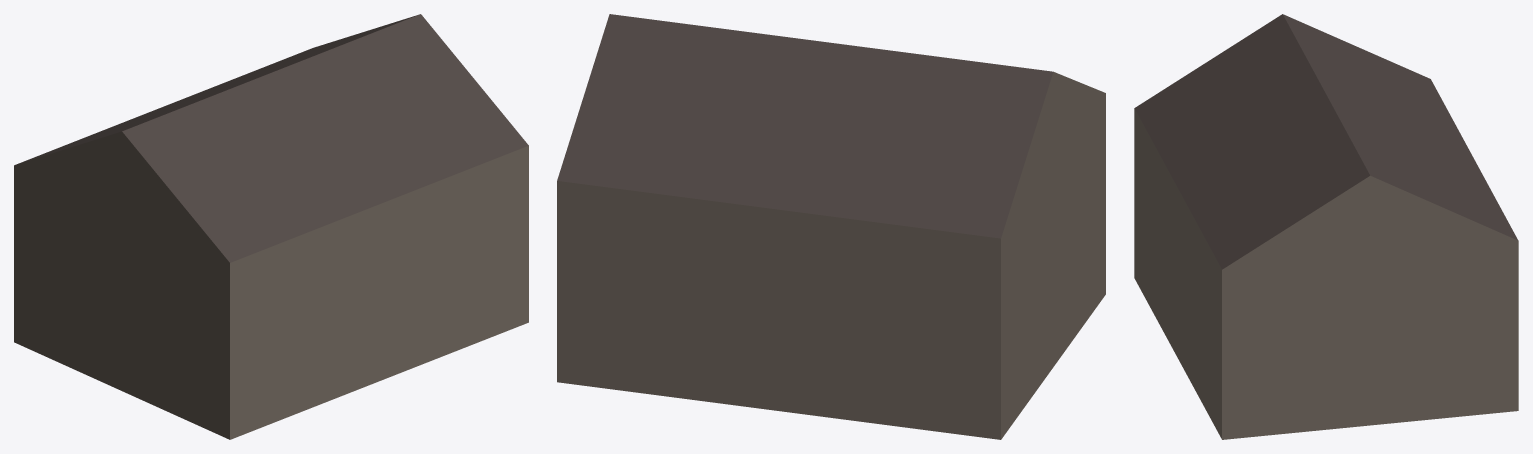
The picture shows the model from 3 angles, left to right: view 1: azimuth 30°, elevation 25°; view 2: azimuth 150°, elevation 25°; view 3: azimuth 270°, elevation 25°; orthographic projection. The views are drawn at different scales.
Parts seen in each view (by area): view 1: HP-w1202561781; view 2: HP-w1202561781; view 3: HP-w1202561781.
Part boxes in pixels (<box>): HP-w1202561781: <box>14,14,528,439</box>; HP-w1202561781: <box>557,14,1105,439</box>; HP-w1202561781: <box>1134,14,1518,439</box>.
Size of the model in its own units: 21.63 by 13.21 by 18.4.
